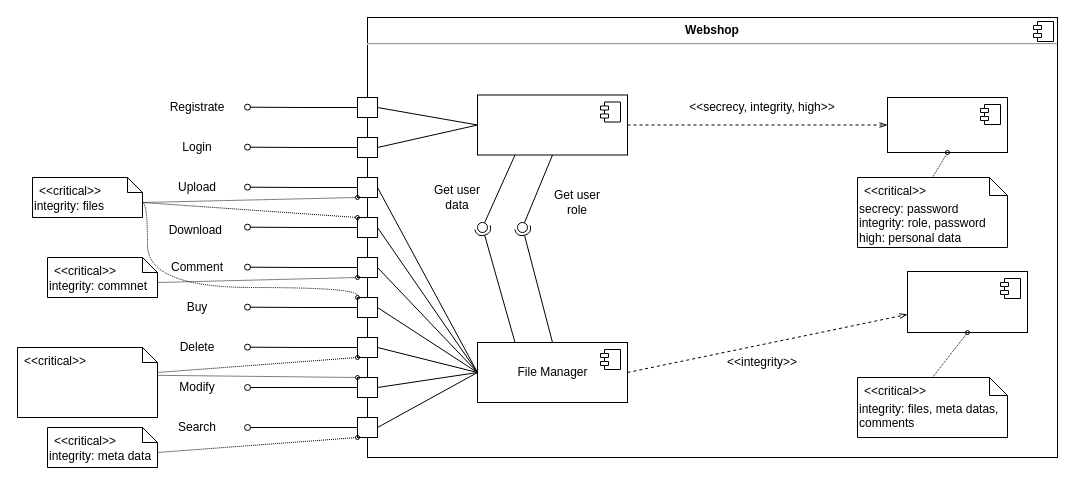
This 1075x485 diagram has some shape labels left out. The shapes that lost their labels are listed below. From the top down, each one's box as (x1, y1, x2, y2) in pixels, then its label:
(476, 94, 628, 155): User data Manager
(886, 96, 1008, 152): «Critical» User DB
(906, 270, 1028, 332): «Critical» File DB
(16, 346, 158, 418): secrecy: password, role integrity: file, meta data, user data
